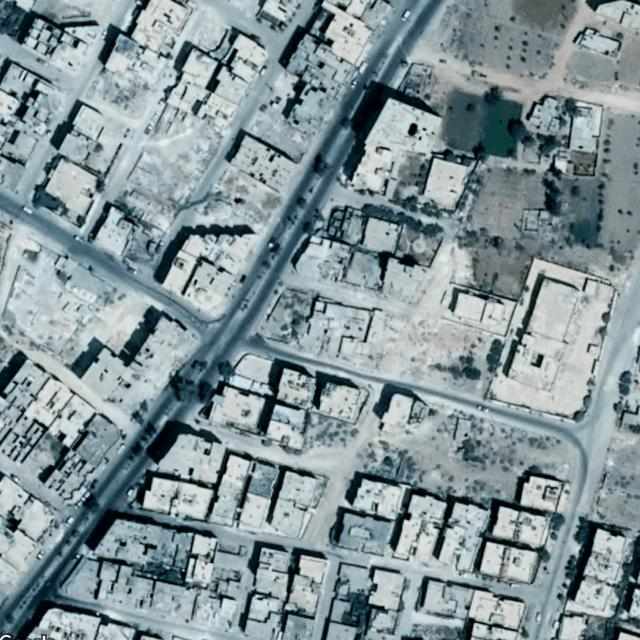damaged_building: (315, 242, 353, 282)
